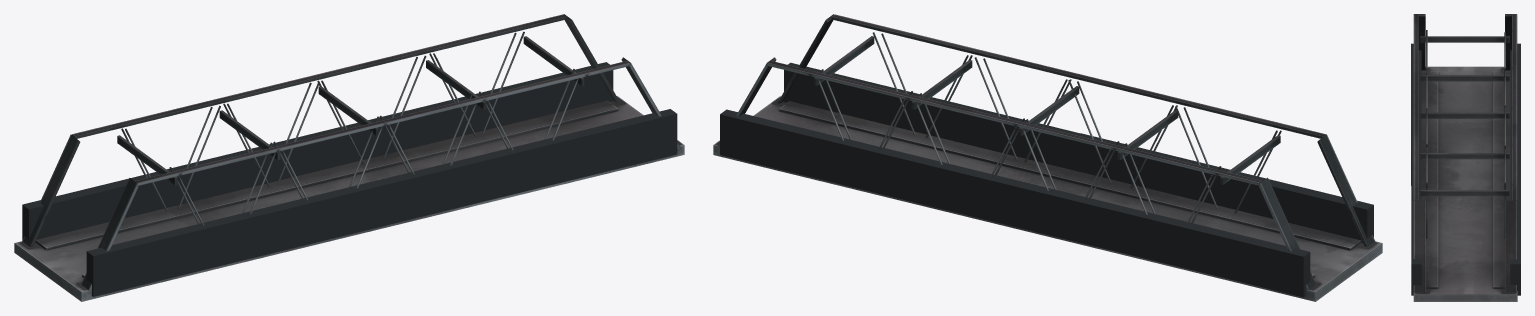
File: metal_bridge.glb
3 renders of one model, left to right at view 1: azimuth 30°, elevation 25°; view 2: azimuth 150°, elevation 25°; view 3: azimuth 270°, elevation 25°, orthographic. The views are drawn at different scales.
Visible parts, largest first — view 1: Pont_001; view 2: Pont_001; view 3: Pont_001.
Boxes of the visible parts, left/top/right/bottom form: Pont_001: left=14, top=14, right=684, bottom=301; Pont_001: left=713, top=14, right=1382, bottom=301; Pont_001: left=1411, top=14, right=1520, bottom=301.
Bounding box in the file's own units: 8 × 1.33 × 1.63.
Materials: 2 (2 with a texture image).
